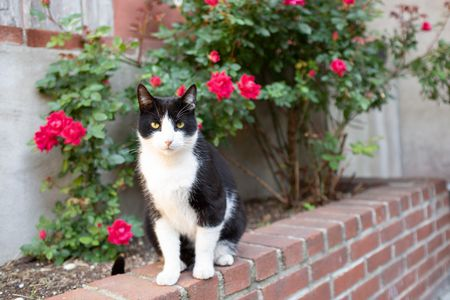cat: (134, 80, 249, 289)
